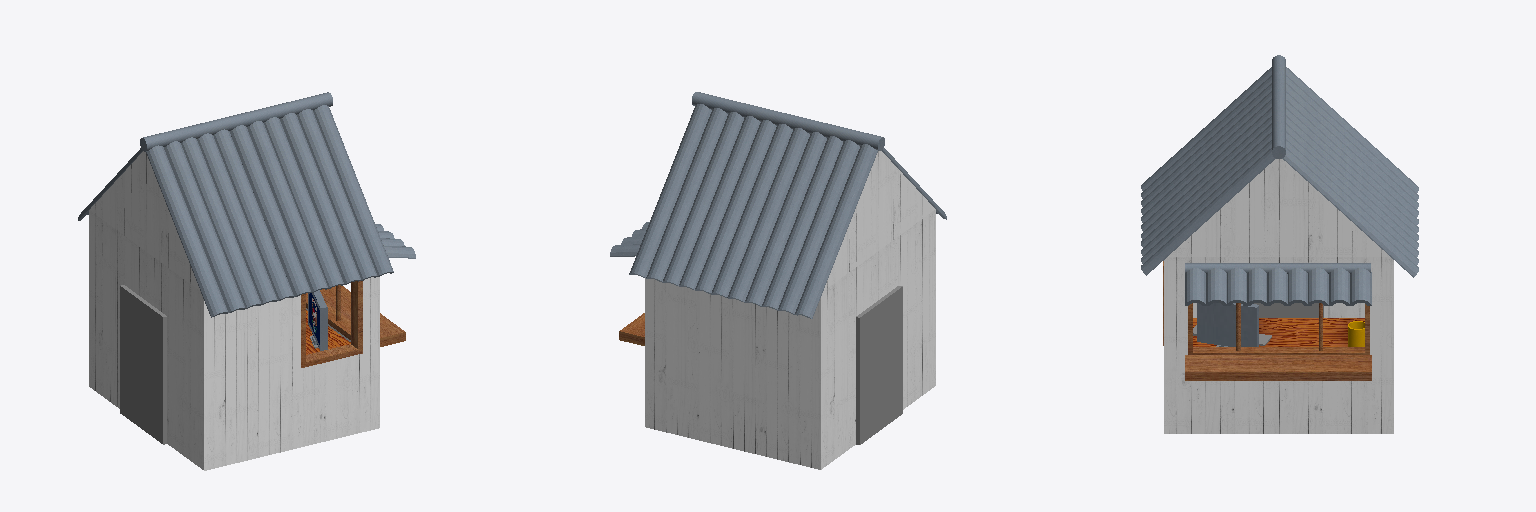
The picture shows the model from 3 angles: view 1: azimuth 30°, elevation 25°; view 2: azimuth 150°, elevation 25°; view 3: azimuth 270°, elevation 25°; orthographic projection.
Visible parts, largest first — view 1: Box017, Box021, Tube068, Tube065, Tube069, Tube070, Tube066, Tube071, Tube063, Tube064, Tube072, Tube062 (+5 smaller); view 2: Box017, Box021, Tube059, Tube052, Tube053, Tube061, Tube058, Tube055, Tube050, Tube051, Tube056, Tube057 (+3 smaller); view 3: Box017, Box018, Box022, Box026, Tube058, Tube072, Box019, Cylinder007, Cylinder008, Tube053, Tube059, Tube064 (+27 smaller).
Part boxes in pixels (x1,y1,x2,y2): Box017: (89,151,379,470); Box021: (120,285,166,444); Tube068: (146,145,228,317); Tube065: (230,125,311,296); Tube069: (164,141,245,312); Tube070: (280,113,361,284); Tube066: (247,121,327,292); Tube071: (297,109,377,280); Tube063: (197,133,277,304); Tube064: (213,129,293,300); Tube072: (313,105,393,276); Tube062: (181,137,261,309); Box017: (645,151,935,469); Box021: (856,286,902,444); Tube059: (794,144,877,318); Tube052: (727,128,809,302); Tube053: (745,132,826,306); Tube061: (778,140,859,314); Tube058: (629,104,711,278); Tube055: (646,108,727,281); Tube050: (695,120,776,293); Tube051: (711,124,792,297); Tube056: (662,112,743,286); Tube057: (679,116,760,289); Box017: (1164,159,1393,433); Box018: (1185,355,1371,380); Box022: (1193,318,1364,346); Box026: (1197,303,1258,346); Tube058: (1282,147,1418,277); Tube072: (1141,148,1275,275); Box019: (1188,303,1369,354); Cylinder007: (1272,55,1285,158); Cylinder008: (1185,263,1370,273); Tube053: (1286,91,1418,217); Tube059: (1286,67,1418,192); Tube064: (1141,99,1271,222).
Bounding box in the file's own units: 91.22 × 112 × 96.72.
10 materials, 6 textured.